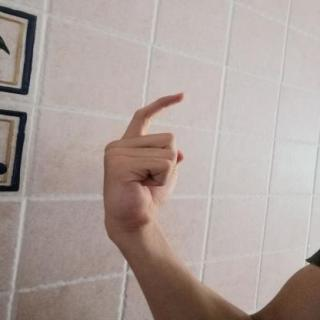RAA: (98, 82, 194, 238)
